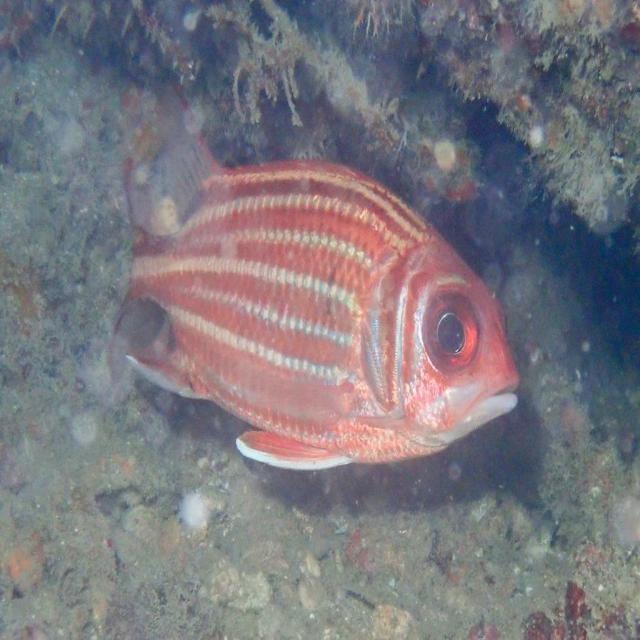Asker Baligi: (110, 152, 522, 473)
